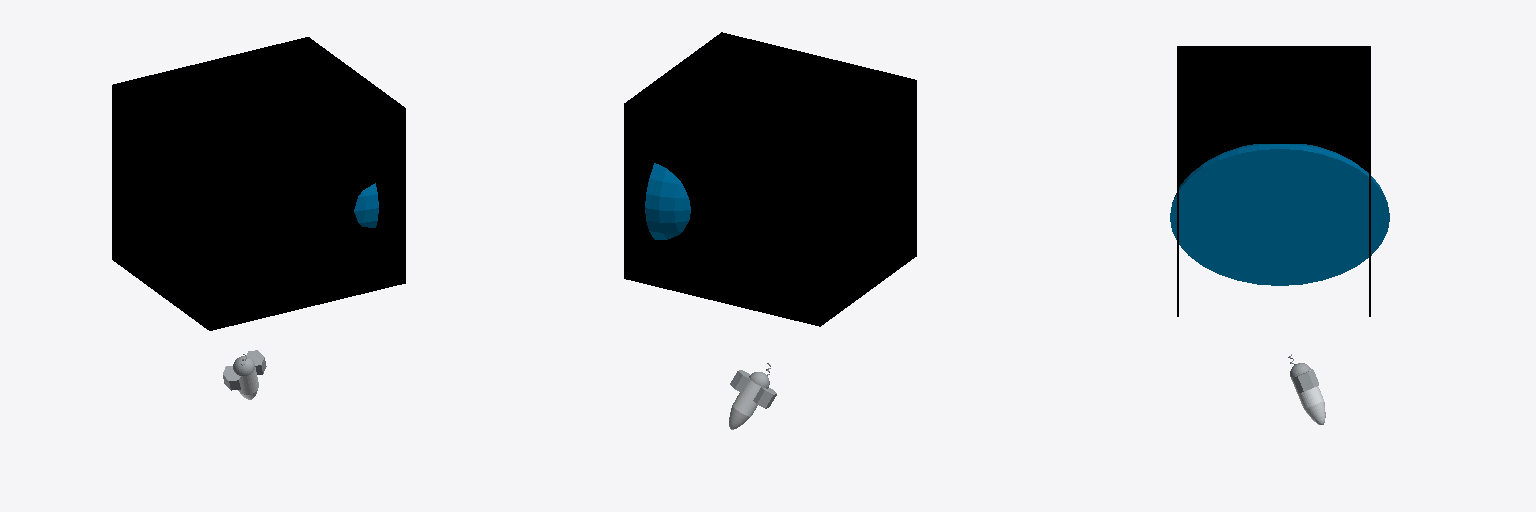
Rendered from tinker.obj.
3 views of the same model, side by side, from view 1: azimuth 30°, elevation 25°; view 2: azimuth 150°, elevation 25°; view 3: azimuth 270°, elevation 25° (orthographic).
Parts seen in each view (by area): view 1: obj_0; view 2: obj_0; view 3: obj_0.
Boxes of the visible parts, x1,y1,x2,y2 form: obj_0: [112, 37, 405, 399]; obj_0: [624, 32, 916, 429]; obj_0: [1170, 46, 1389, 424].
Bounding box in the file's own units: 204 × 321 × 198.